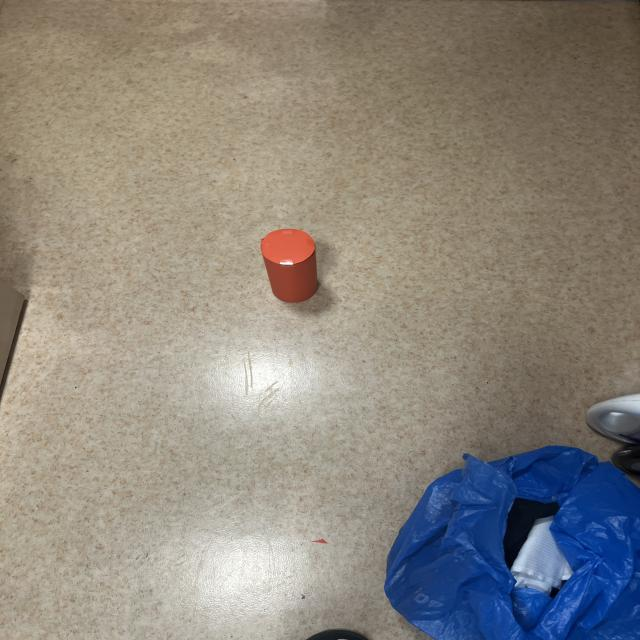przeszkoda: (261, 229, 318, 302)
